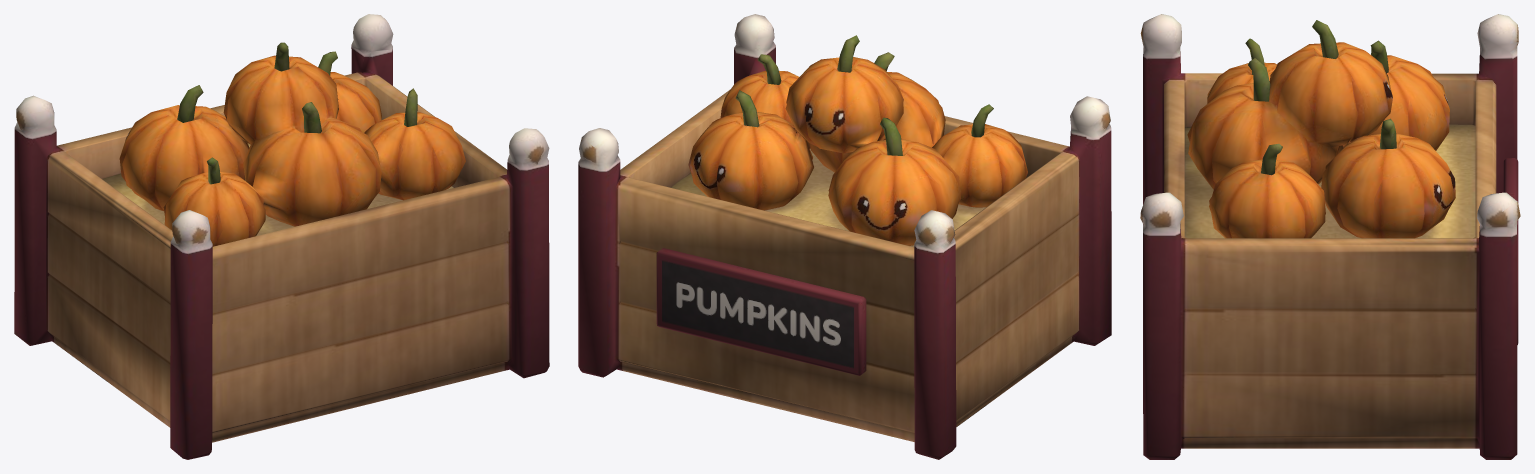
Rendered from PumpkinBin.glb.
The picture shows the model from 3 angles, left to right: view 1: azimuth 30°, elevation 25°; view 2: azimuth 150°, elevation 25°; view 3: azimuth 270°, elevation 25°; orthographic projection. The views are drawn at different scales.
Visible parts, largest first — view 1: Crate, Pumpkins, Stems, Hay; view 2: Crate, Pumpkins, Sign, Hay, Stems; view 3: Crate, Pumpkins, Hay, Stems, Sign.
Part boxes in pixels (x1,y1,x2,y2): Crate: [14, 14, 549, 459]; Pumpkins: [119, 55, 465, 246]; Stems: [177, 42, 417, 184]; Hay: [102, 143, 453, 235]; Crate: [578, 14, 1111, 459]; Pumpkins: [688, 57, 1027, 245]; Sign: [656, 248, 866, 375]; Hay: [671, 148, 985, 246]; Stems: [735, 35, 993, 155]; Crate: [1140, 14, 1520, 459]; Pumpkins: [1187, 42, 1455, 238]; Hay: [1184, 124, 1475, 238]; Stems: [1245, 20, 1396, 175]; Sign: [1503, 158, 1518, 344].
Bounding box in the file's own units: 1.12 × 0.9143 × 0.9147.
Materials: 1 (1 with a texture image).
